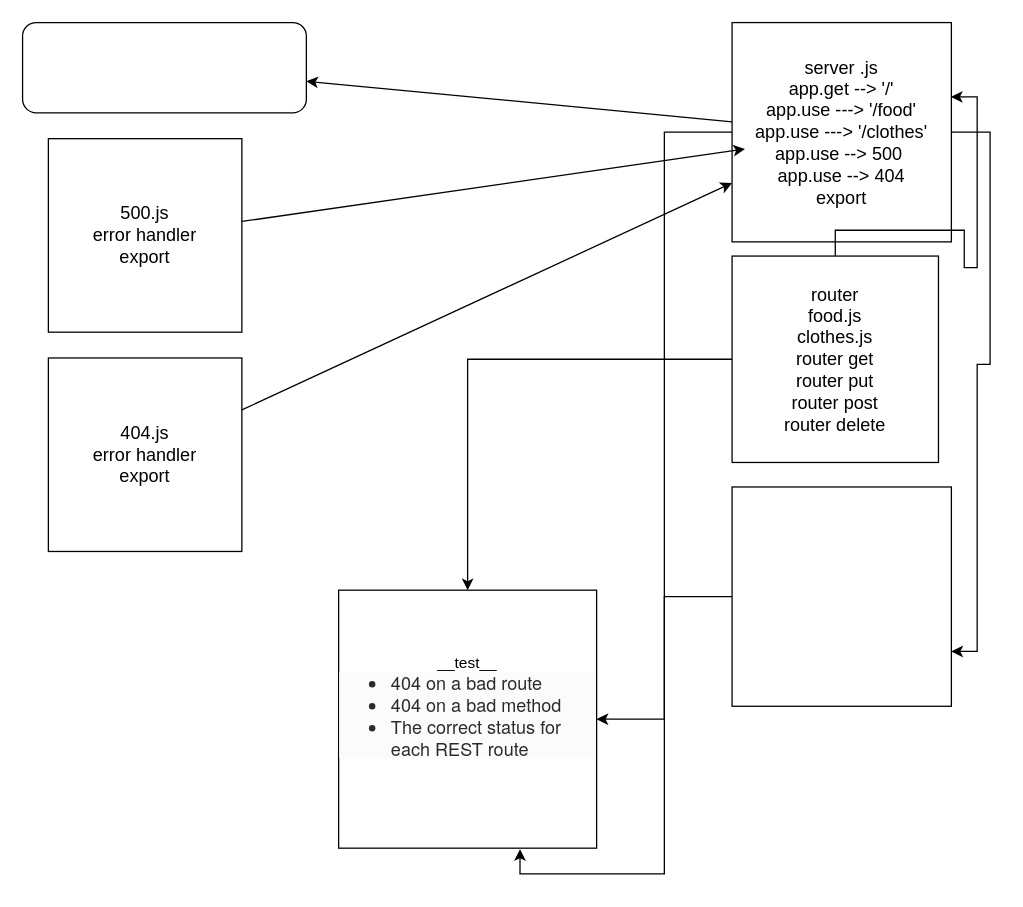
The diagram is 1023 pixels wide and 907 high, and some of its shapes have lost their labels. Each missing label, with the centre of its shape:
index.js to start the server npm start/nodemon: the point at 163,67
logger.js middleware to log the method and path export: the point at 841,596
